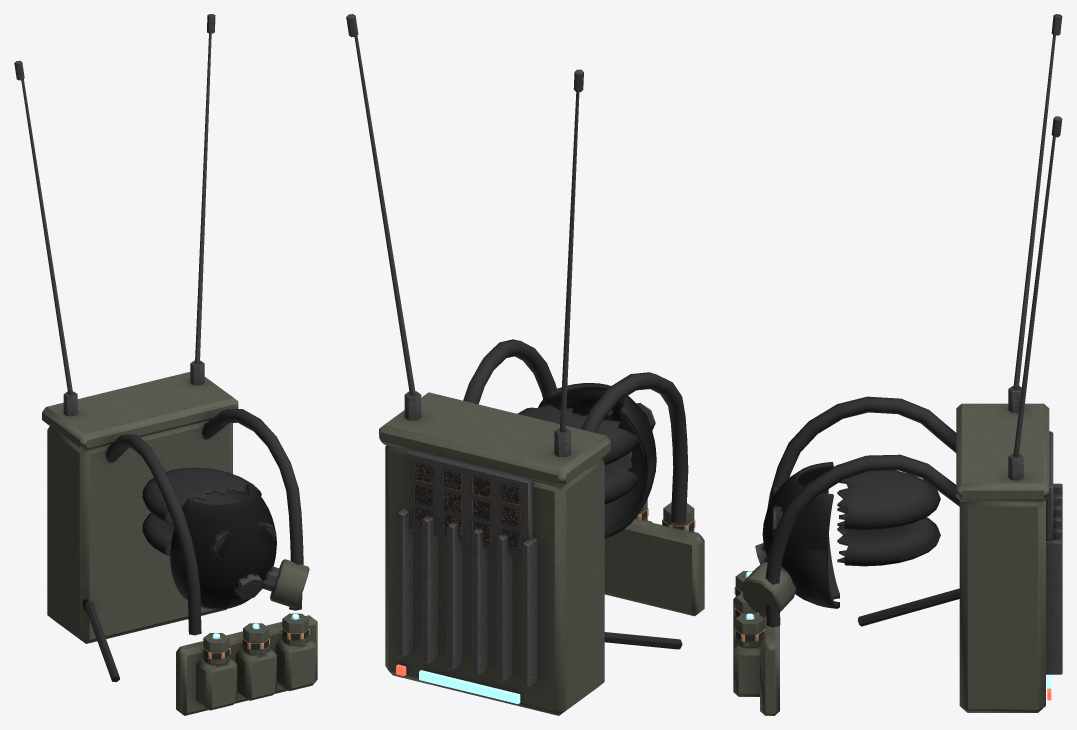
Rendered from gear_antiaug.gltf.
3 views of the same model, side by side, from view 1: azimuth 30°, elevation 25°; view 2: azimuth 150°, elevation 25°; view 3: azimuth 270°, elevation 25° (orthographic). The views are drawn at different scales.
Visible parts, largest first — view 1: jammer__chest, mask__head, rig__chest; view 2: jammer__chest, rig__chest, mask__head; view 3: jammer__chest, mask__head, rig__chest.
Boxes of the visible parts, x1,y1,x2,y2 form: jammer__chest: [14, 14, 303, 682]; mask__head: [142, 467, 309, 609]; rig__chest: [176, 613, 317, 715]; jammer__chest: [346, 14, 688, 715]; rig__chest: [604, 499, 704, 616]; mask__head: [517, 383, 656, 538]; jammer__chest: [765, 14, 1062, 712]; mask__head: [741, 462, 940, 616]; rig__chest: [733, 571, 779, 715].
Bounding box in the file's own units: 0.3779 × 1.02 × 0.495.
1 material, 1 textured.
